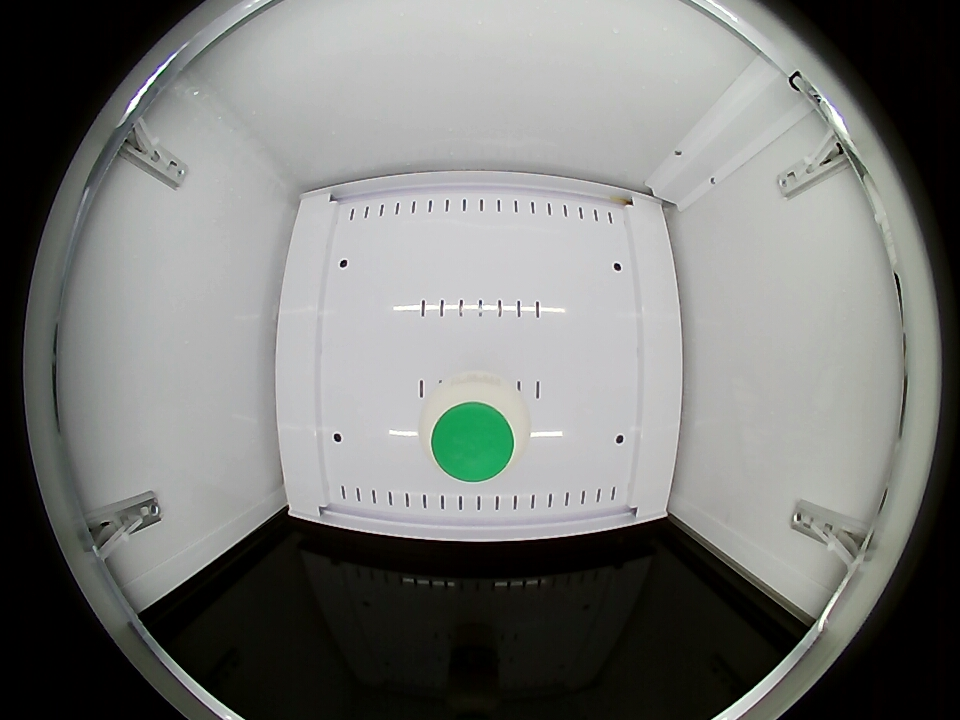liziyuan: (423, 372, 527, 483)
